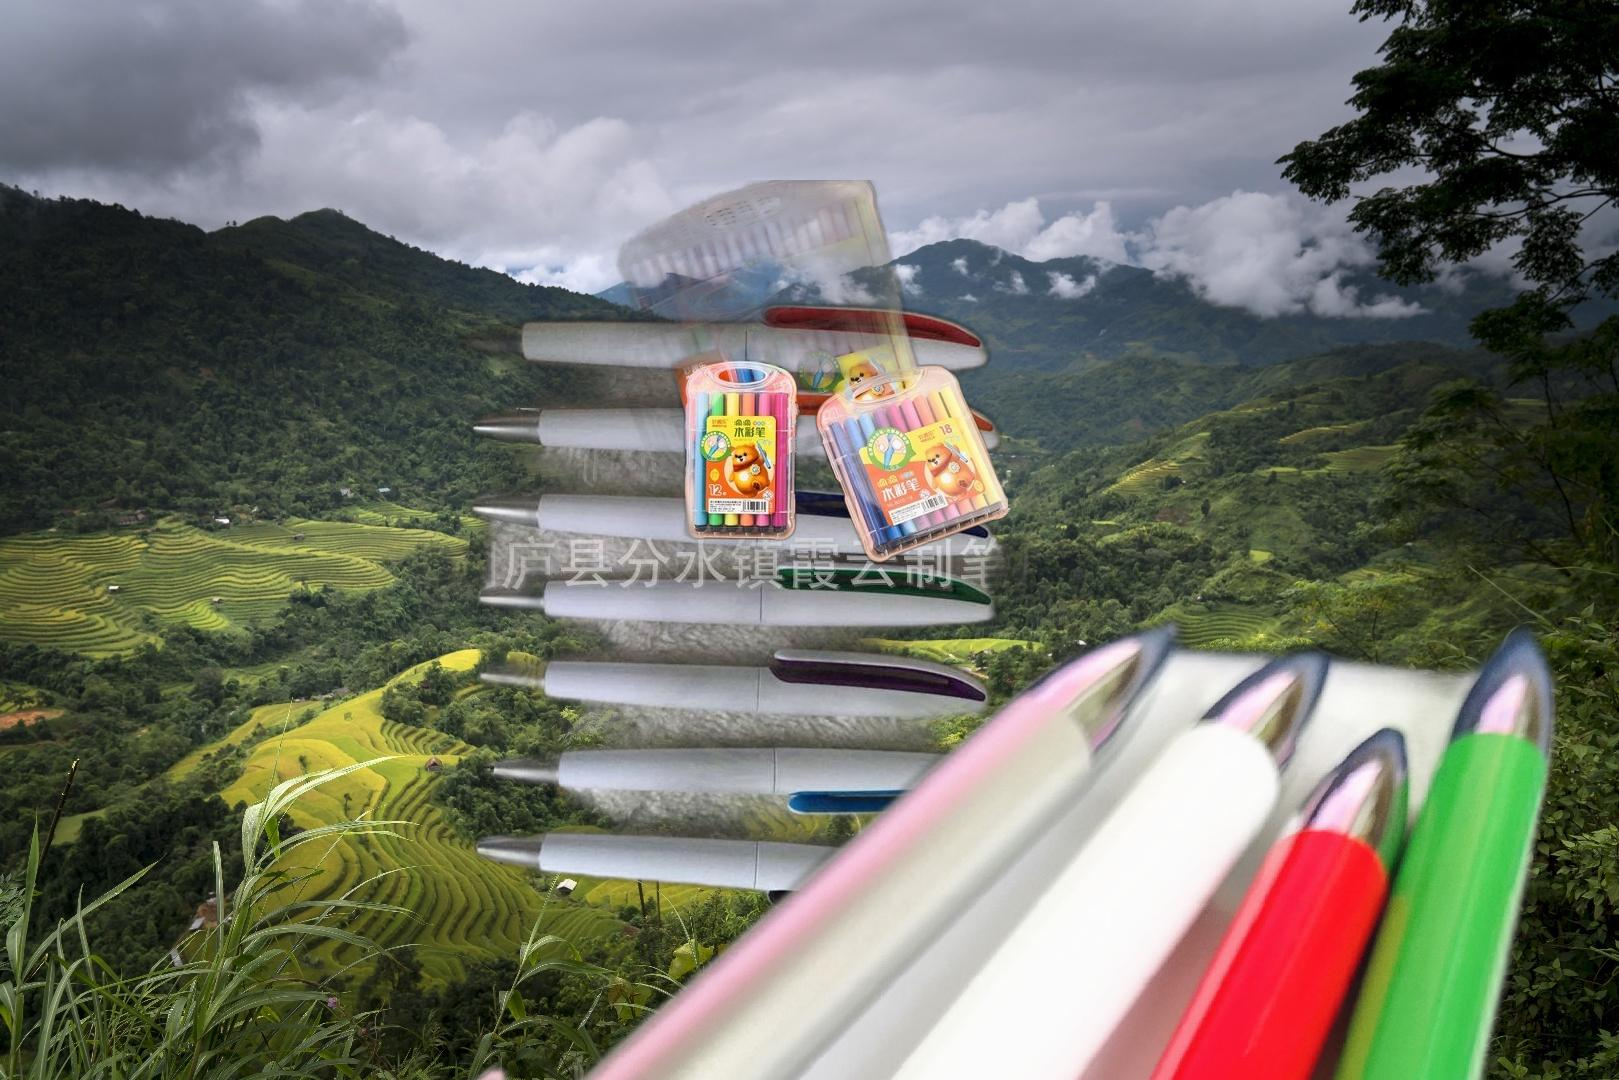penholder: (12, 585, 1574, 1080), (438, 295, 1133, 1055), (608, 180, 1008, 565)
